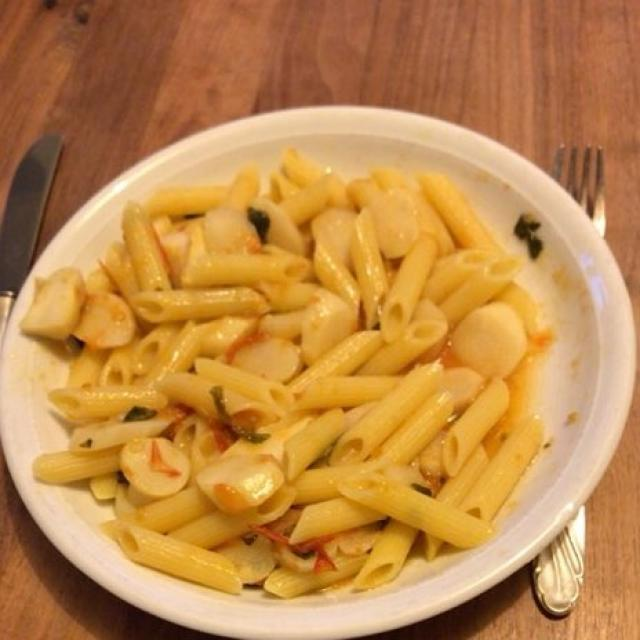pasta: (31, 162, 543, 591)
